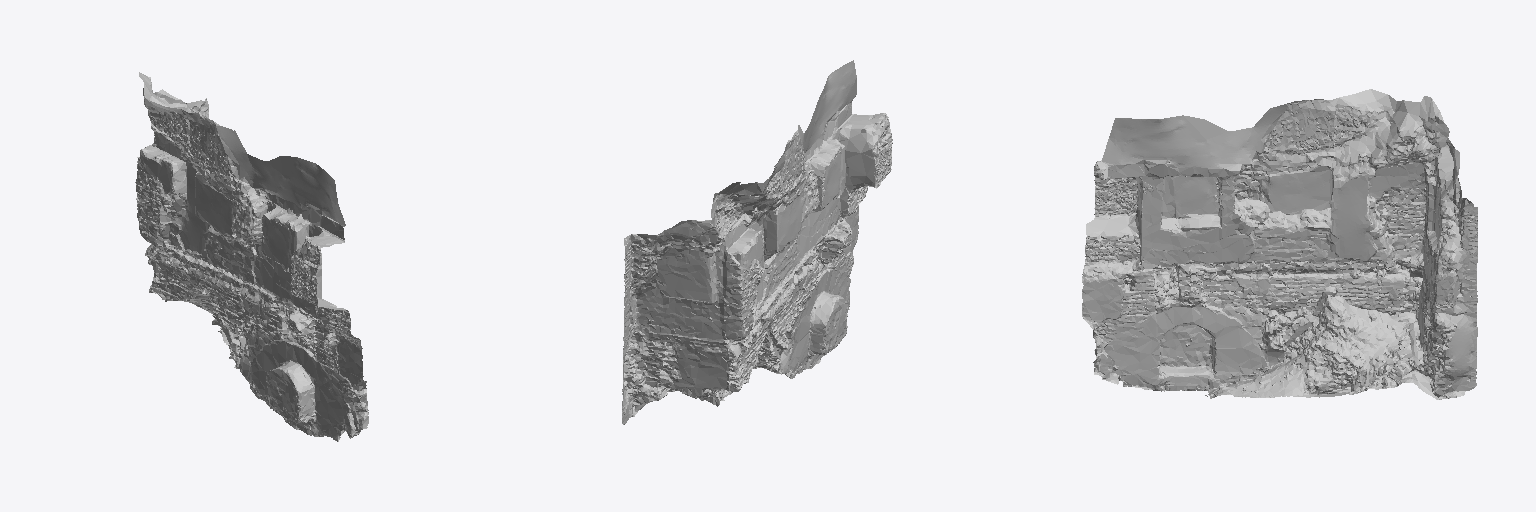
File: ruin_wall.obj
3 renders of one model, left to right at view 1: azimuth 30°, elevation 25°; view 2: azimuth 150°, elevation 25°; view 3: azimuth 270°, elevation 25°, orthographic.
Parts seen in each view (by area): view 1: 15; view 2: 15; view 3: 15.
Part boxes in pixels (x1,y1,x2,y2): 15: (135,72,368,441); 15: (622,60,892,424); 15: (1082,89,1477,399).
Size of the model in its own units: 2.1 by 4.55 by 5.9.